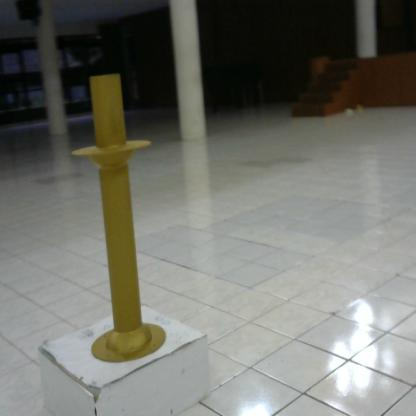pole: (66, 70, 175, 375)
